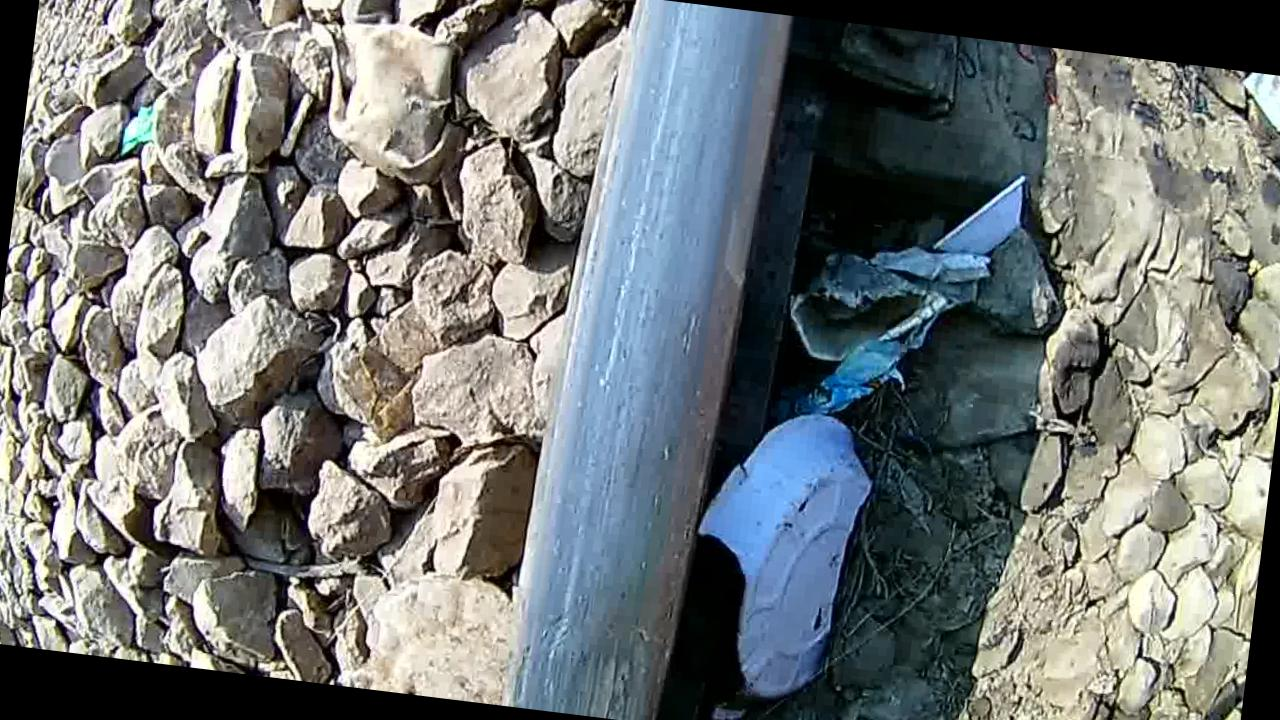bolt_missing: (483, 552, 698, 720)
